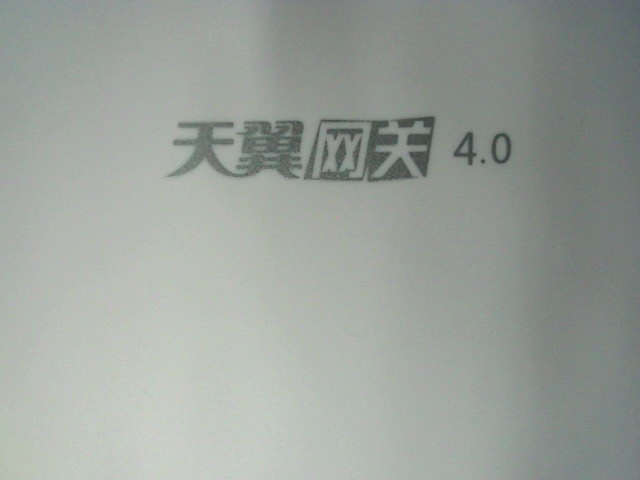BM_TianYiWangGuan: (163, 107, 512, 186)
